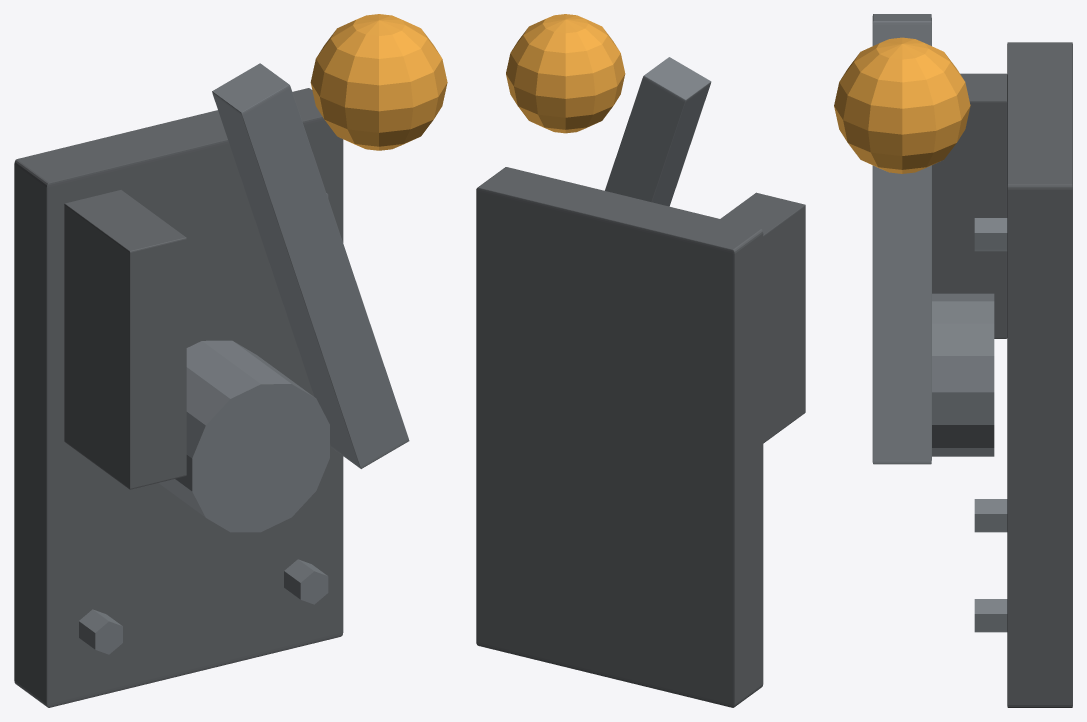
File: Ch2_ShutterLever.fbx
The picture shows the model from 3 angles, left to right: view 1: azimuth 30°, elevation 25°; view 2: azimuth 150°, elevation 25°; view 3: azimuth 270°, elevation 25°; orthographic projection. The views are drawn at different scales.
Visible parts, largest first — view 1: Ch2_ShutterLever; view 2: Ch2_ShutterLever; view 3: Ch2_ShutterLever.
Boxes of the visible parts, x1,y1,x2,y2 form: Ch2_ShutterLever: [14, 14, 447, 707]; Ch2_ShutterLever: [476, 14, 805, 707]; Ch2_ShutterLever: [834, 14, 1072, 707].
Bounding box in the file's own units: 0.297 × 0.552 × 0.182.
